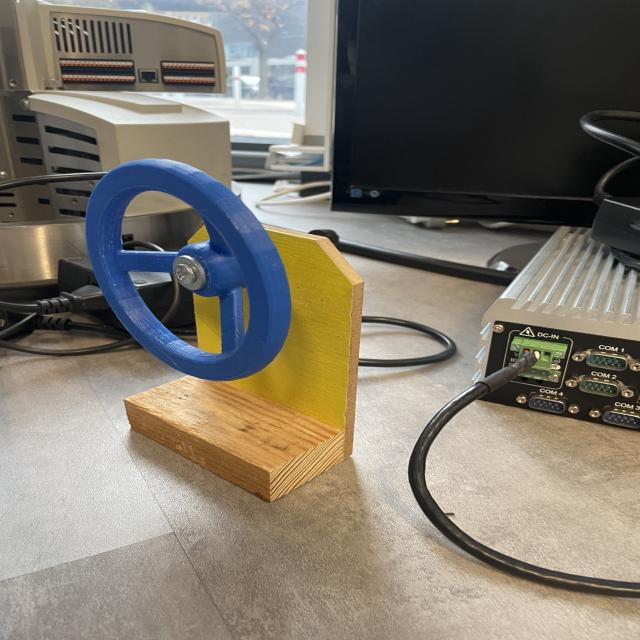Wheel Handle Valve Threaded: (76, 160, 301, 382)
